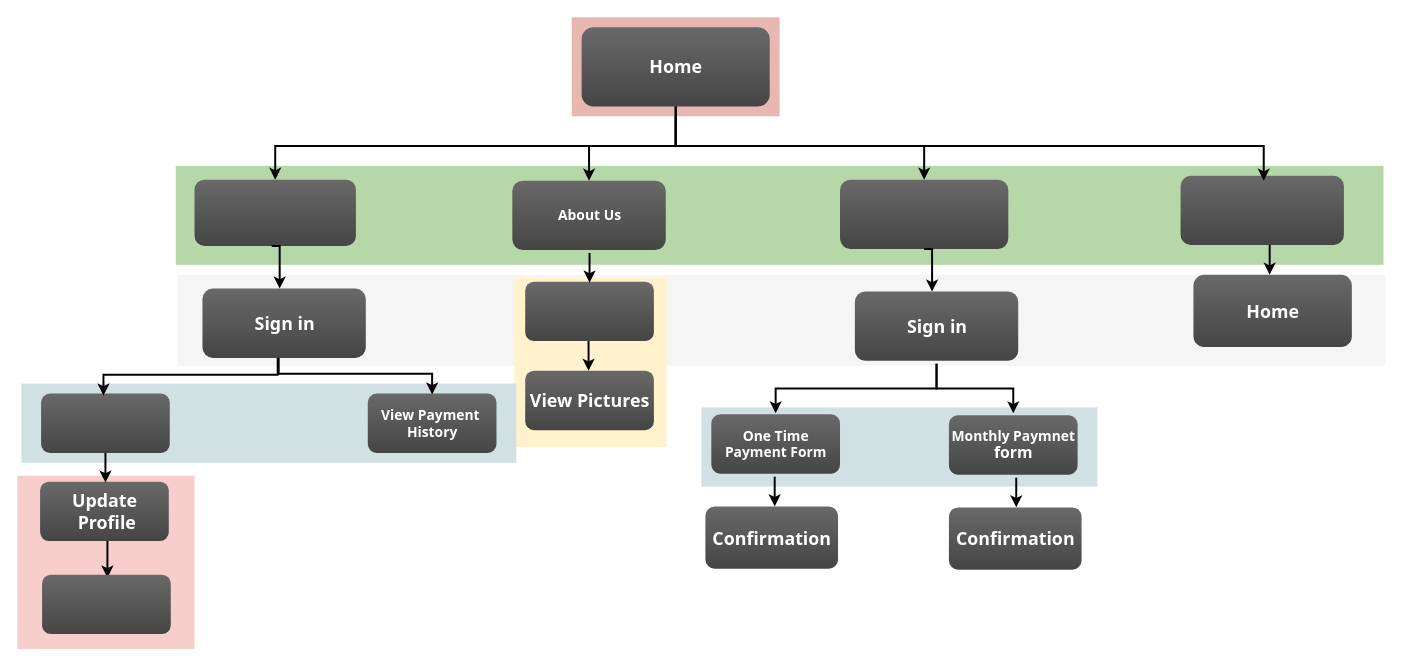
Some shapes in this 1402 by 665 pixel diagram are drawn without their labels. The shapes that lost their labels are listed below. From the top down, each one's centre as x and y in pixels, then its label:
point 274,212: My Dashboard
point 924,213: Donate
point 1261,210: Register/Sign in
point 589,311: Show Detail story
point 105,422: View Profile Detail
point 106,604: Delete
